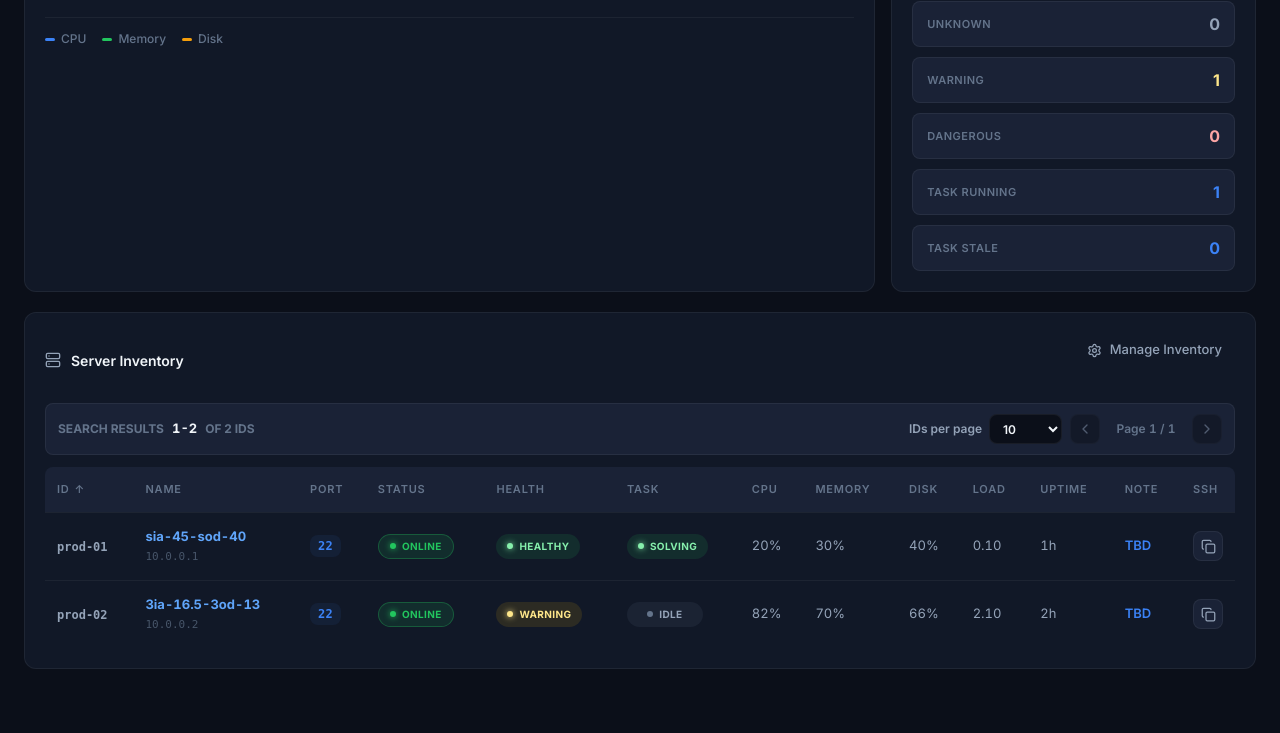
Scenario: App › edits a server note inline and persists it
The image size is (1280, 733).
(page scrolled)
Click the button named "Edit note for prod-02": (1138, 614) [1125,604,1151,624]
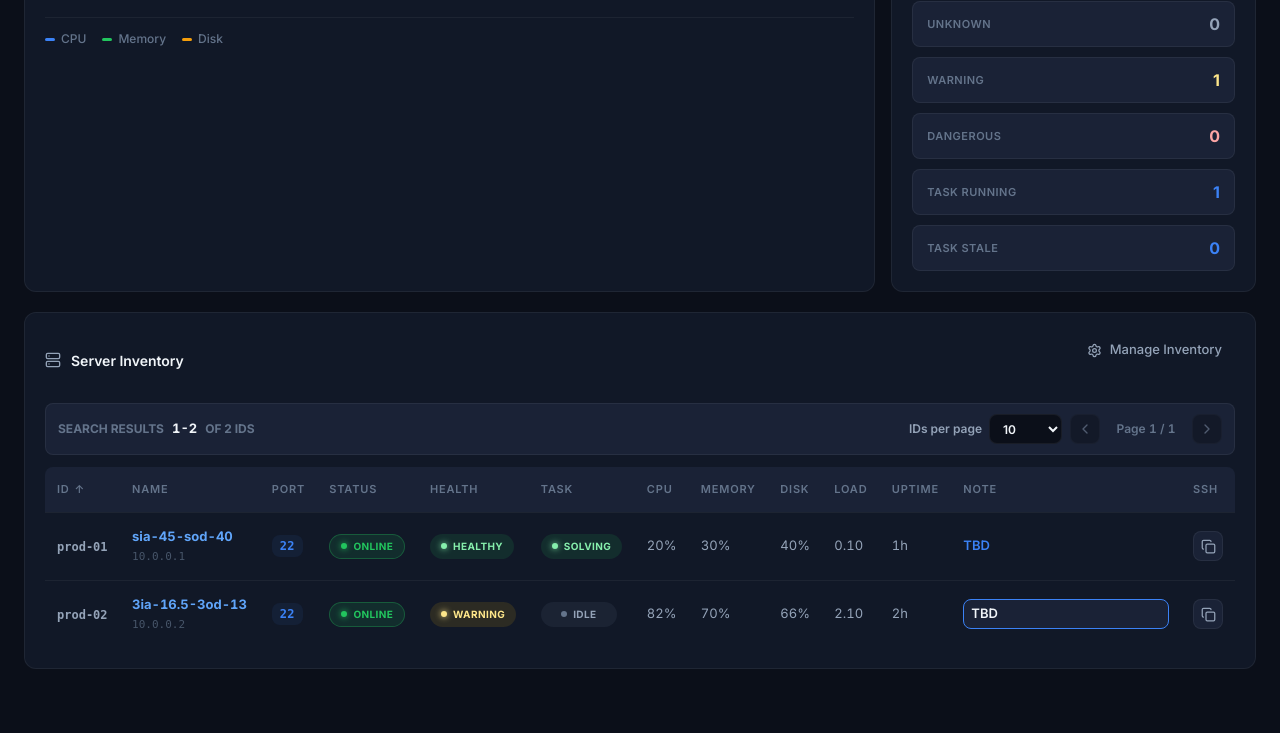
Replace the text in the field named "Server note for prod-02" with "Poker Gateway": (1066, 614) [963,599,1169,629]
Then press Enter
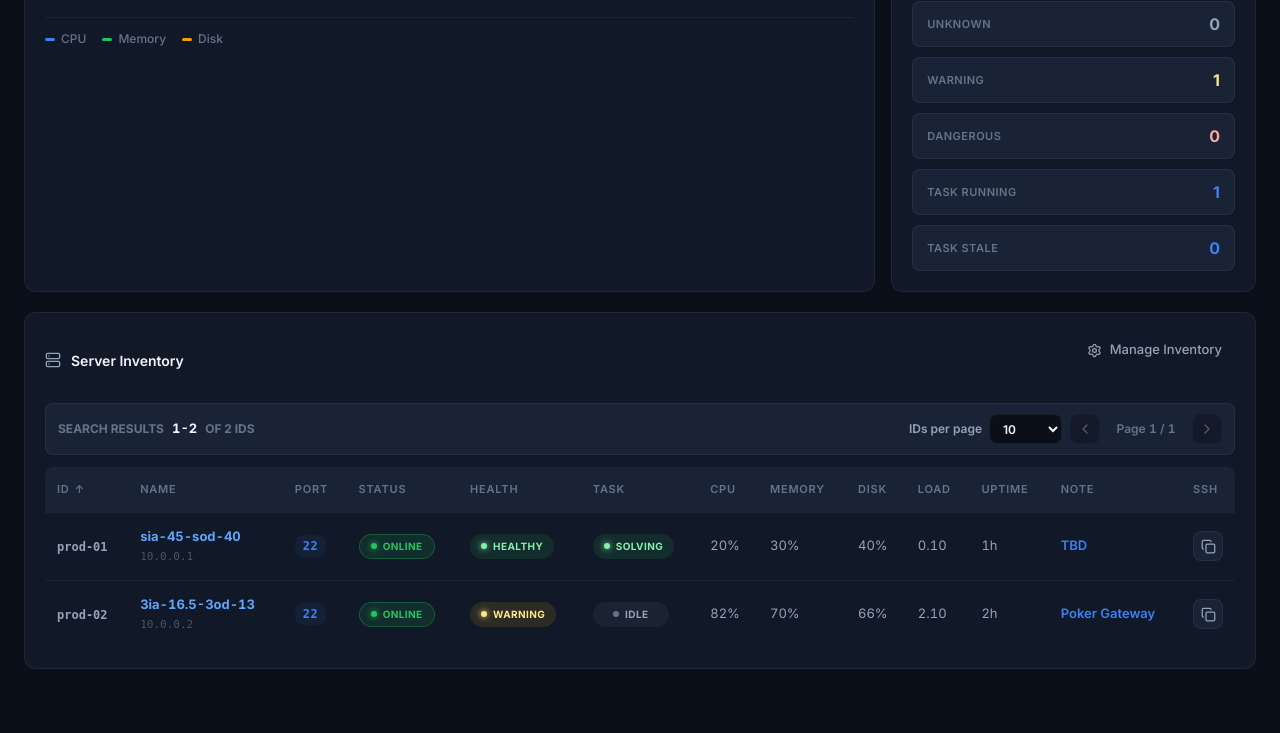
Expected: the button named "Edit note for prod-02" reads "Poker Gateway", [1061,604,1155,624]
